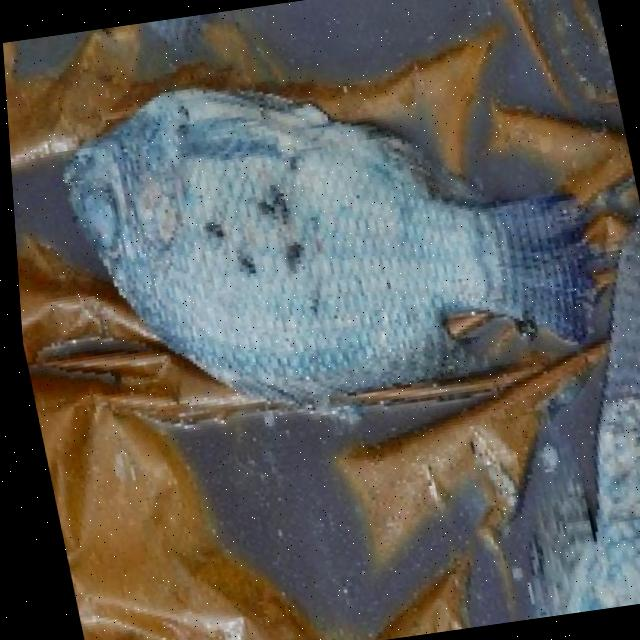Non-Fresh: (14, 43, 525, 384)
